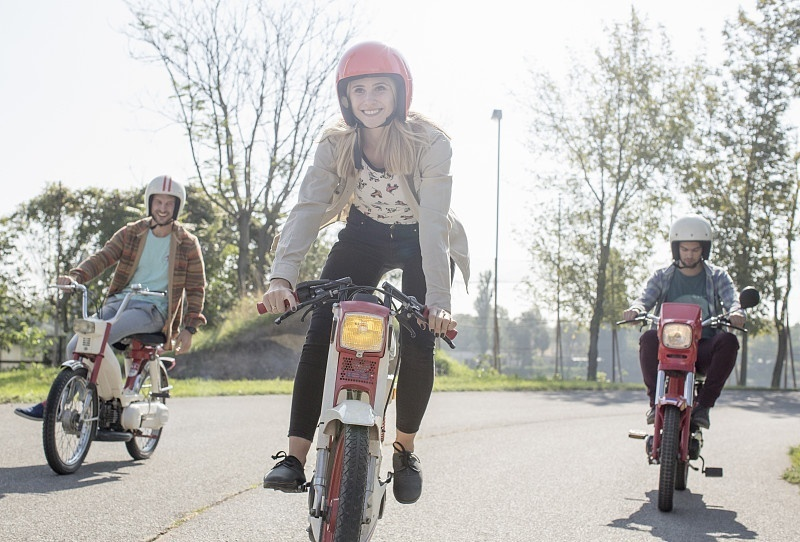non-vehicle: (293, 265, 430, 542), (32, 282, 184, 471), (631, 294, 739, 508)
